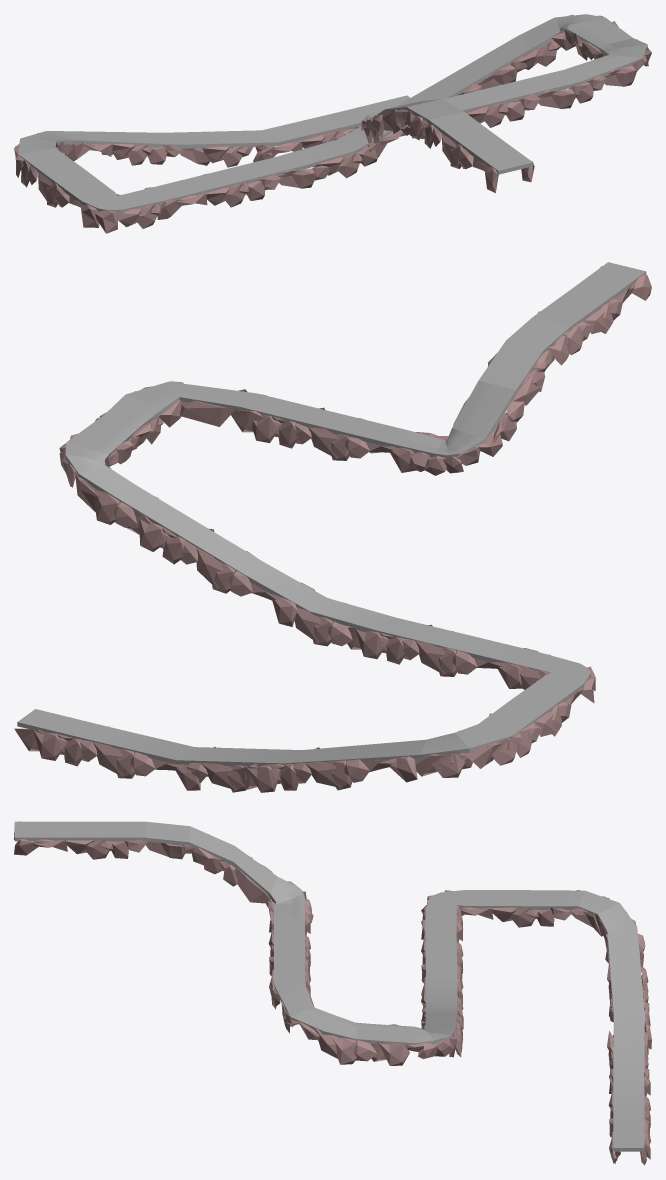
File: level2.fbx
The picture shows the model from 3 angles, top to bottom: view 1: azimuth 30°, elevation 25°; view 2: azimuth 150°, elevation 25°; view 3: azimuth 270°, elevation 25°; orthographic projection. The views are drawn at different scales.
Parts seen in each view (by area): view 1: loftedSurface2; view 2: loftedSurface2; view 3: loftedSurface2.
Boxes of the visible parts, bbox=[...] form: loftedSurface2: bbox=[14, 14, 651, 233]; loftedSurface2: bbox=[14, 262, 651, 792]; loftedSurface2: bbox=[14, 821, 651, 1165].
Bounding box in the file's own units: 1375 × 652 × 1578.
